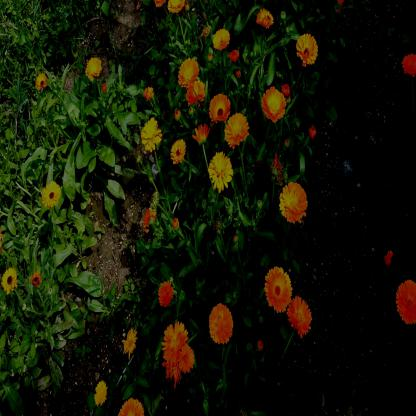marigold: (208, 300, 235, 343), (280, 181, 308, 222), (266, 266, 292, 310), (260, 87, 288, 121), (396, 280, 415, 325), (289, 296, 310, 336), (210, 154, 234, 187), (225, 112, 248, 146), (164, 323, 182, 364), (296, 34, 319, 64), (141, 117, 162, 149), (178, 59, 200, 86), (210, 95, 230, 120), (42, 182, 60, 206), (178, 345, 193, 373), (187, 82, 204, 105), (257, 7, 274, 29), (2, 268, 16, 292), (122, 328, 136, 351), (170, 141, 186, 161), (402, 53, 415, 76), (159, 283, 173, 304), (95, 380, 108, 402), (87, 57, 102, 75), (36, 74, 47, 87)
